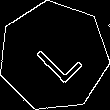L_NW: (25, 28, 82, 85)
